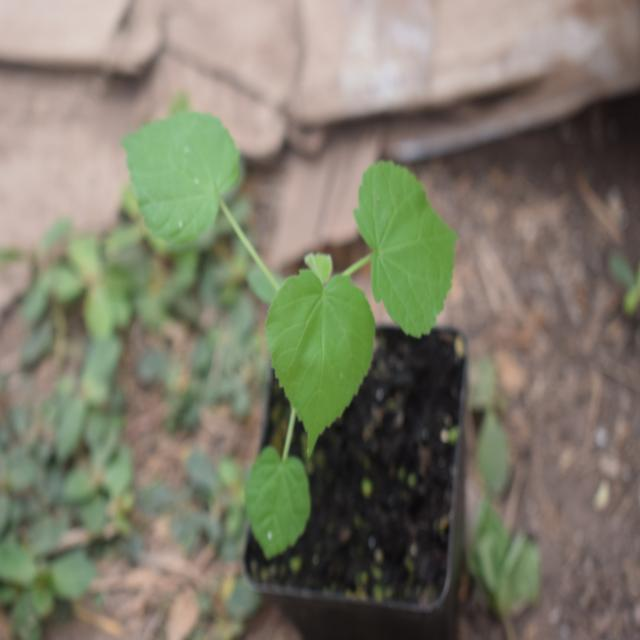abutilon theophrasti: (109, 105, 454, 539)
